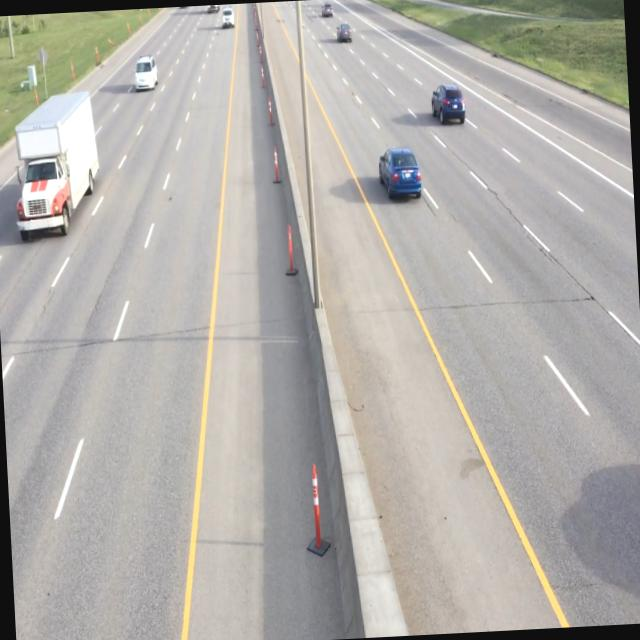Vehicle: (10, 88, 104, 242), (378, 144, 424, 205), (430, 78, 468, 130), (132, 49, 160, 94), (336, 22, 354, 44), (222, 6, 236, 29), (320, 0, 335, 19), (206, 4, 220, 16), (179, 6, 190, 11)
